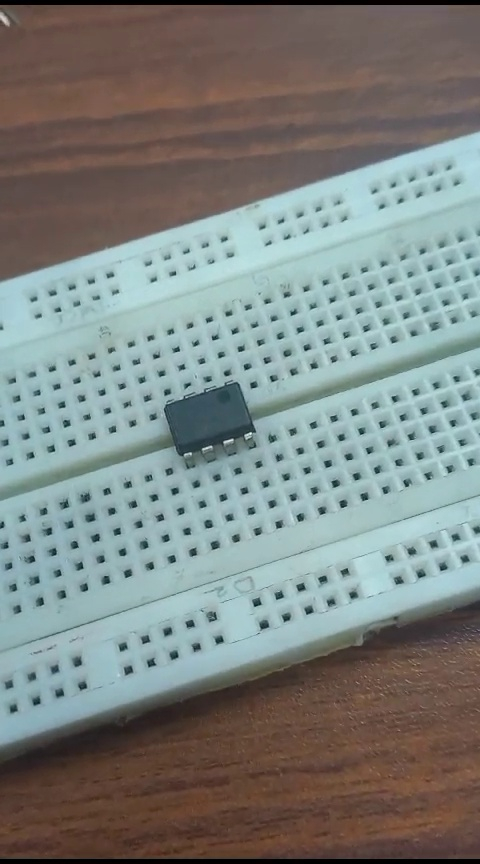IC: (145, 375, 269, 475)
